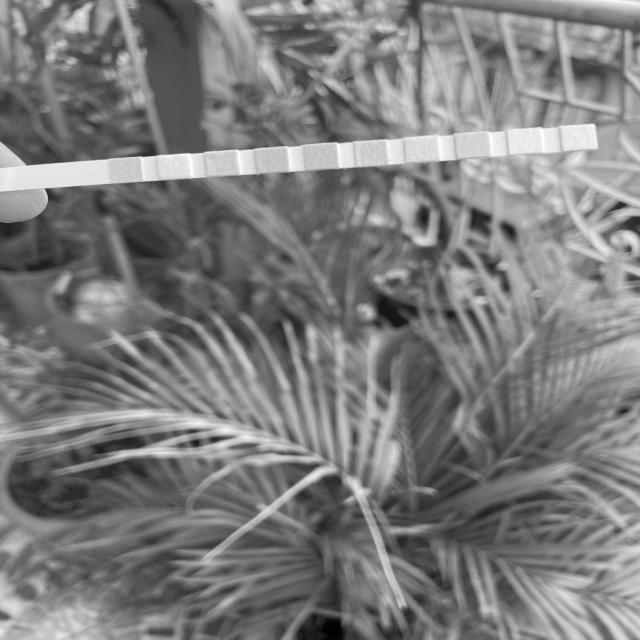Bilirubin: (157, 156, 189, 179)
Blood: (306, 145, 337, 167)
Glucose: (110, 159, 142, 182)
Ketone: (207, 152, 238, 175)
Leukocytes: (563, 126, 594, 149)
Nitrite: (508, 130, 540, 153)
Protein: (406, 138, 437, 161)
SpGravity: (255, 150, 287, 173)
Urobilinogen: (455, 134, 487, 156)
background: (0, 0, 640, 640)
pH: (356, 143, 387, 165)
strip: (0, 124, 598, 192)
